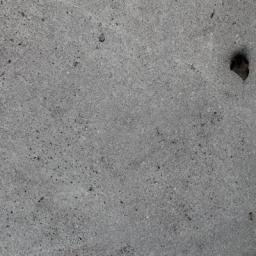FOD: (228, 51, 254, 84)
